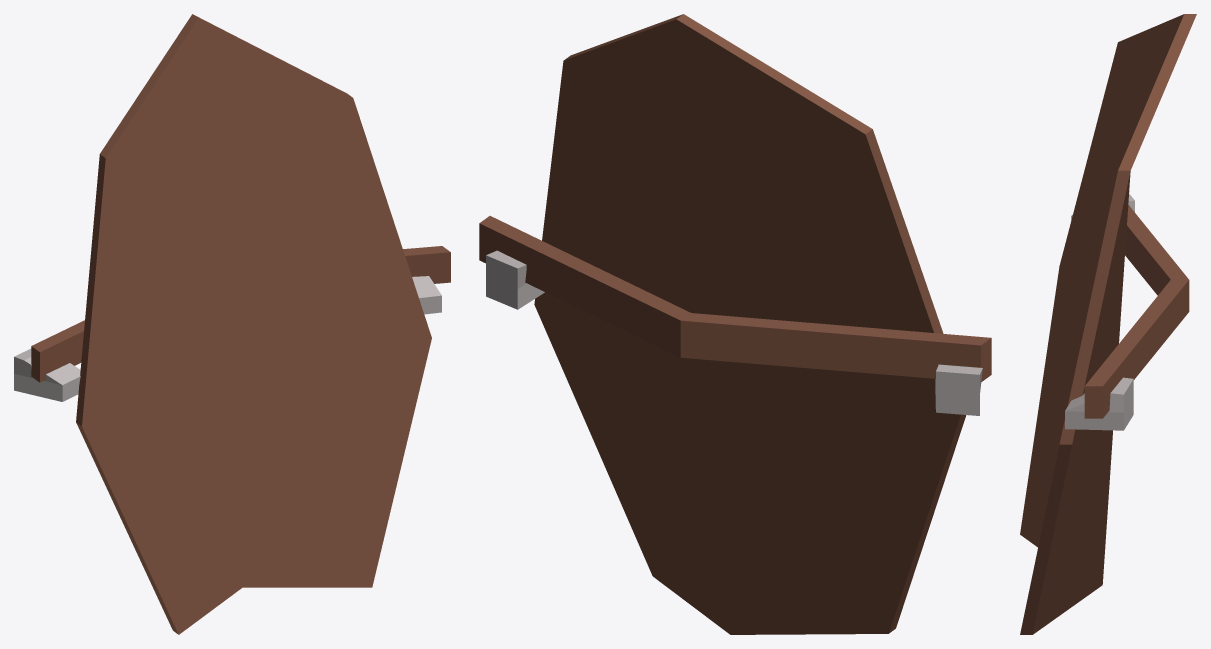
The model's file is porte.glb.
The picture shows the model from 3 angles, left to right: view 1: azimuth 30°, elevation 25°; view 2: azimuth 150°, elevation 25°; view 3: azimuth 270°, elevation 25°; orthographic projection. The views are drawn at different scales.
Parts seen in each view (by area): view 1: porte, barre, cubeG, cubeD; view 2: porte, barre, cubeG, cubeD; view 3: porte, barre, cubeD.
Part boxes in pixels (x1,y1,x2,y2): porte: [76, 14, 431, 634]; barre: [31, 246, 450, 382]; cubeG: [14, 348, 80, 401]; cubeD: [412, 276, 441, 314]; porte: [534, 14, 966, 634]; barre: [479, 216, 991, 381]; cubeG: [935, 364, 982, 415]; cubeD: [486, 250, 544, 309]; porte: [1020, 14, 1196, 634]; barre: [1084, 205, 1189, 418]; cubeD: [1065, 377, 1133, 430].
Size of what is drawn, in the model's own units: 4.63 by 5.67 by 1.59.
1 material, 1 textured.
